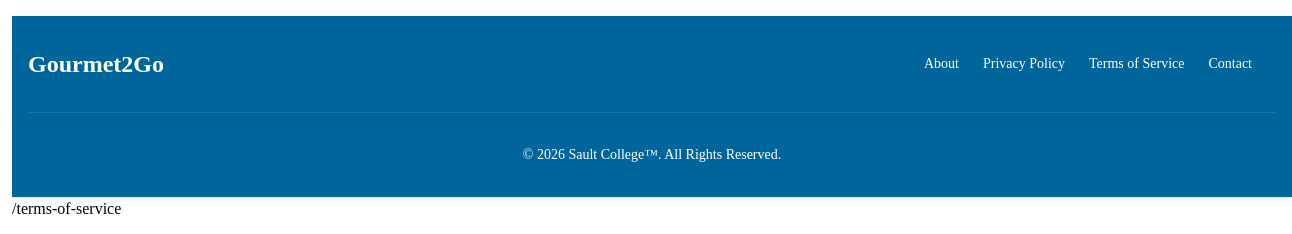
Test: Footer component › navigates to Contact page when clicked
Click the link "Contact". click: (1230, 64)
box: [1208,56,1252,71]
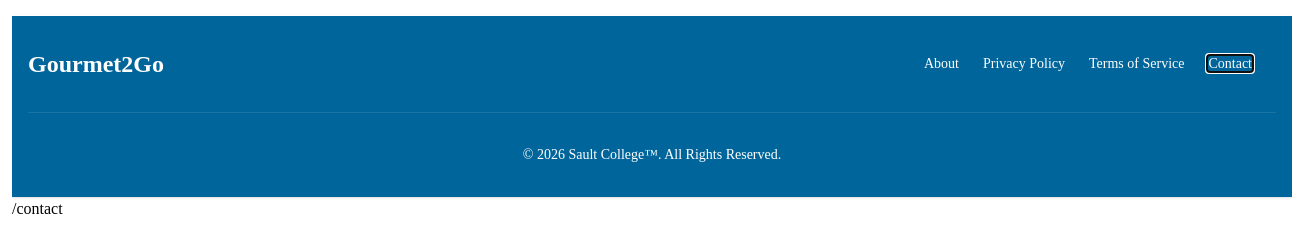
Check: the text with test id "location" reads "/contact", box [12,200,63,217]
